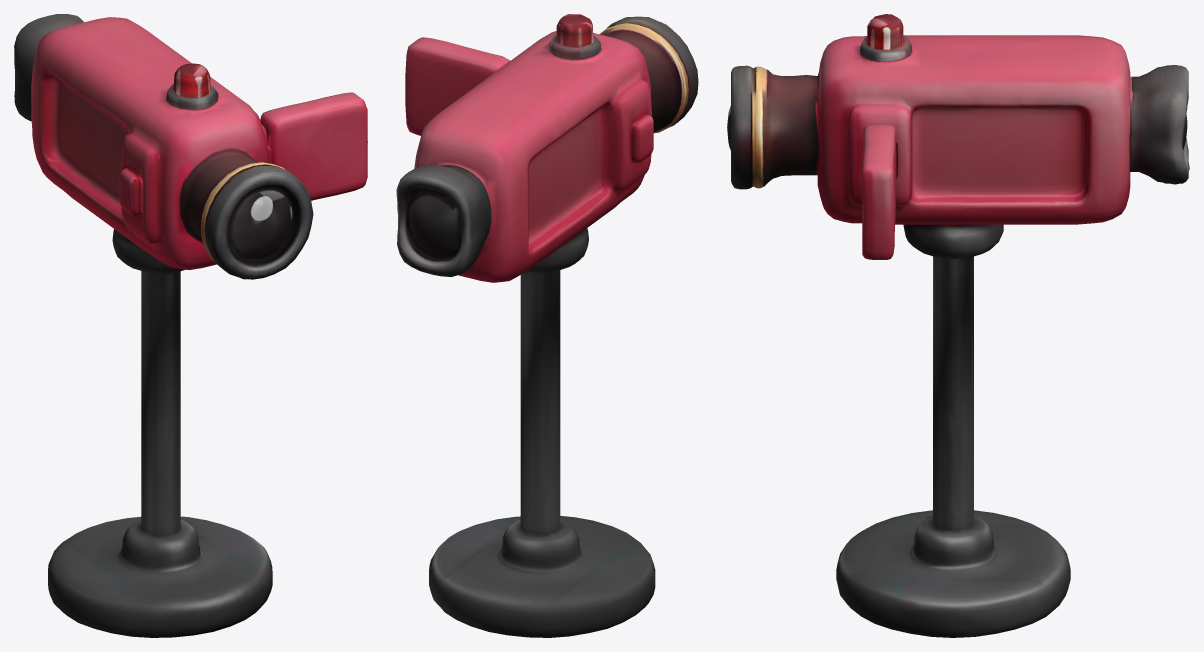
The model's file is kamera.glb.
3 views of the same model, side by side, from view 1: azimuth 30°, elevation 25°; view 2: azimuth 150°, elevation 25°; view 3: azimuth 270°, elevation 25° (orthographic). The views are drawn at different scales.
Visible parts, largest first — view 1: tripo_node_bb65e5ff-9302-482a-b3fe-6a314f6cfe17; view 2: tripo_node_bb65e5ff-9302-482a-b3fe-6a314f6cfe17; view 3: tripo_node_bb65e5ff-9302-482a-b3fe-6a314f6cfe17.
Boxes of the visible parts, x1,y1,x2,y2 form: tripo_node_bb65e5ff-9302-482a-b3fe-6a314f6cfe17: (14,14,367,637); tripo_node_bb65e5ff-9302-482a-b3fe-6a314f6cfe17: (396,14,698,637); tripo_node_bb65e5ff-9302-482a-b3fe-6a314f6cfe17: (727,14,1189,637).
Size of the model in its own units: 0.4916 by 0.9774 by 0.7135.
1 material, 1 textured.
